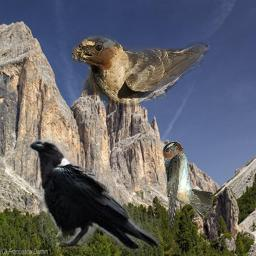Crow: (29, 135, 161, 255)
Swallow: (72, 35, 210, 109), (162, 141, 213, 233)
